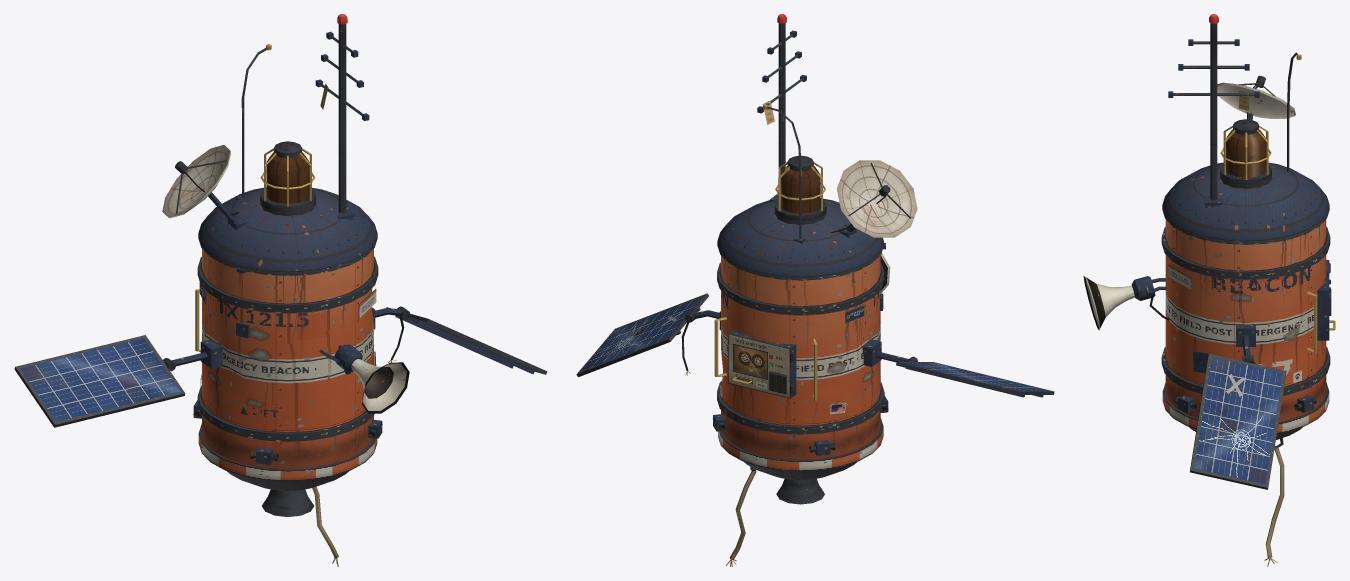
File: SignalBeacon.fbx
The picture shows the model from 3 angles, left to right: view 1: azimuth 30°, elevation 25°; view 2: azimuth 150°, elevation 25°; view 3: azimuth 270°, elevation 25°; orthographic projection. The views are drawn at different scales.
Parts seen in each view (by area): view 1: SignalBeacon; view 2: SignalBeacon; view 3: SignalBeacon.
Part boxes in pixels (bbox=[...]): SignalBeacon: bbox=[14, 14, 547, 566]; SignalBeacon: bbox=[576, 14, 1054, 566]; SignalBeacon: bbox=[1083, 14, 1335, 566].
Bounding box in the file's own units: 5.19 × 5.95 × 2.51.
